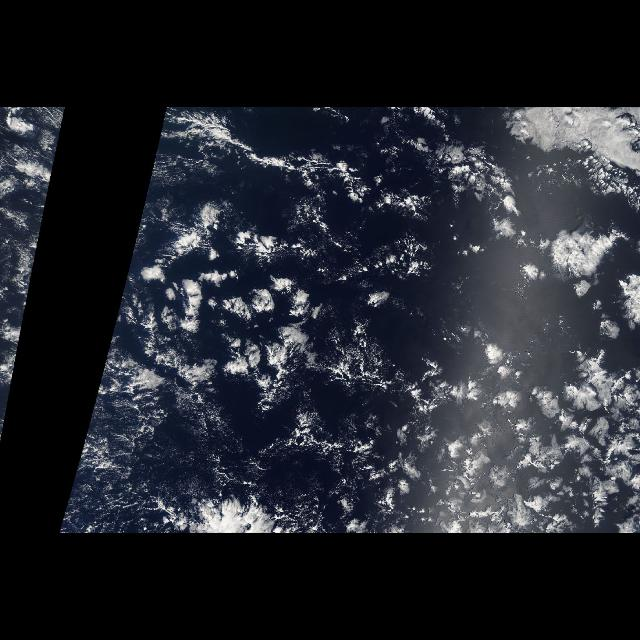Flower: (434, 150, 634, 528), (142, 214, 424, 416)
Sugar: (79, 407, 387, 503)
